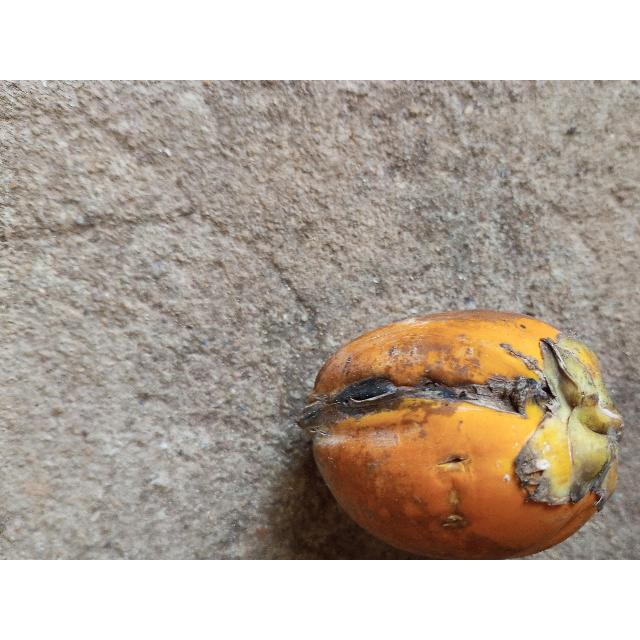damaged: (300, 311, 624, 560)
